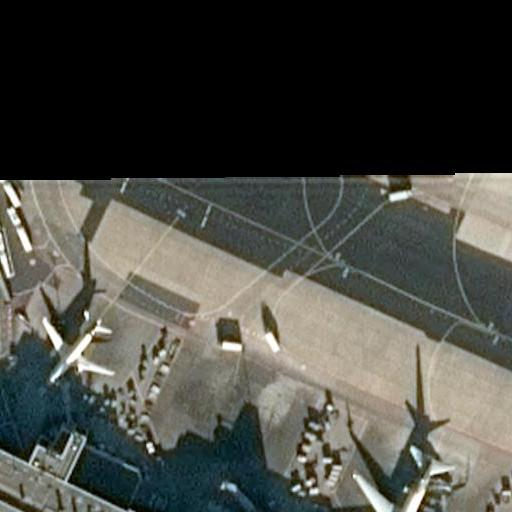Aircraft: (342, 441, 465, 512), (38, 294, 112, 383)
